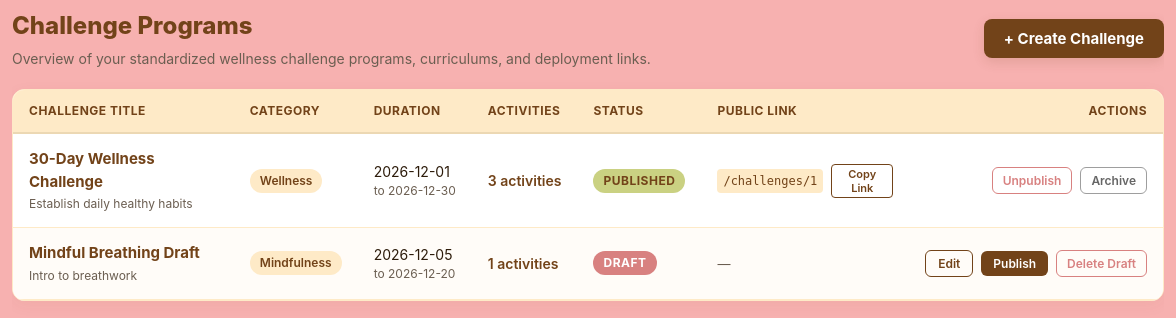
Test: Program Builder Component (UI-07) › copies public invite link to clipboard when clicking Copy Link on published program
Expected: the text "/challenges/1" is shown, [717,168,823,192]
Click the button "Copy Link". click: (862, 180)
box: [831,164,893,198]
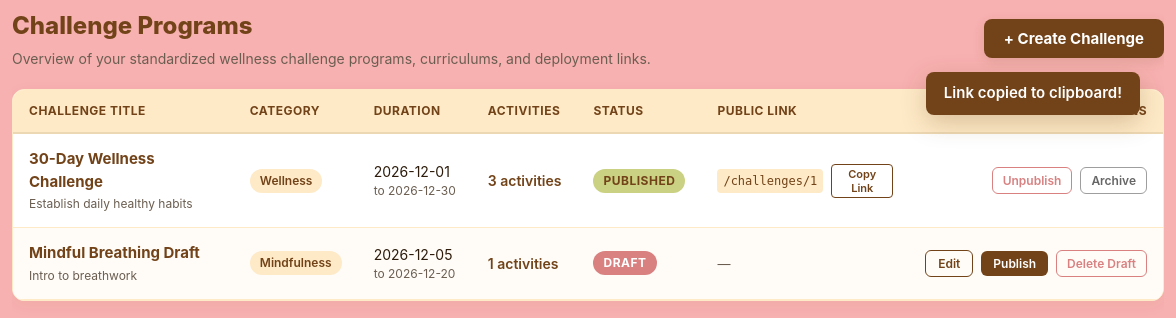
Expected: the text "Link copied to clipboard!" is shown, [926,72,1140,114]
